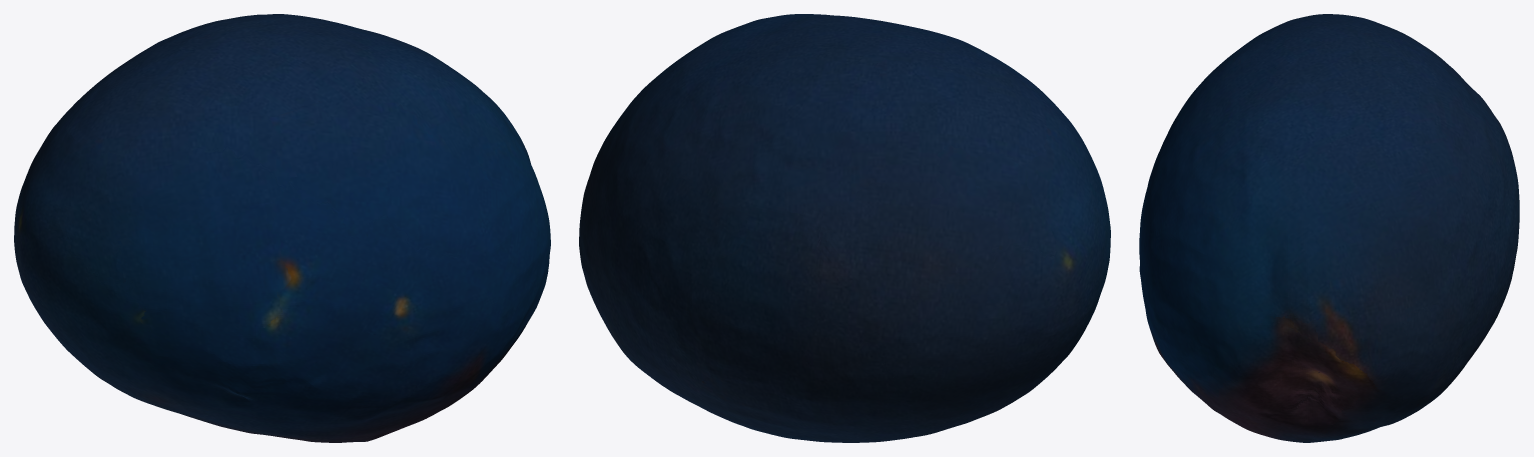
The picture shows the model from 3 angles, left to right: view 1: azimuth 30°, elevation 25°; view 2: azimuth 150°, elevation 25°; view 3: azimuth 270°, elevation 25°; orthographic projection. The views are drawn at different scales.
Visible parts, largest first — view 1: Hy21_Mesh.obj; view 2: Hy21_Mesh.obj; view 3: Hy21_Mesh.obj.
Boxes of the visible parts, bbox=[...] form: Hy21_Mesh.obj: bbox=[14, 14, 550, 442]; Hy21_Mesh.obj: bbox=[579, 14, 1110, 442]; Hy21_Mesh.obj: bbox=[1139, 14, 1519, 442].
Size of the model in its own units: 1.96 by 1.54 by 1.51.
1 material, 1 textured.
